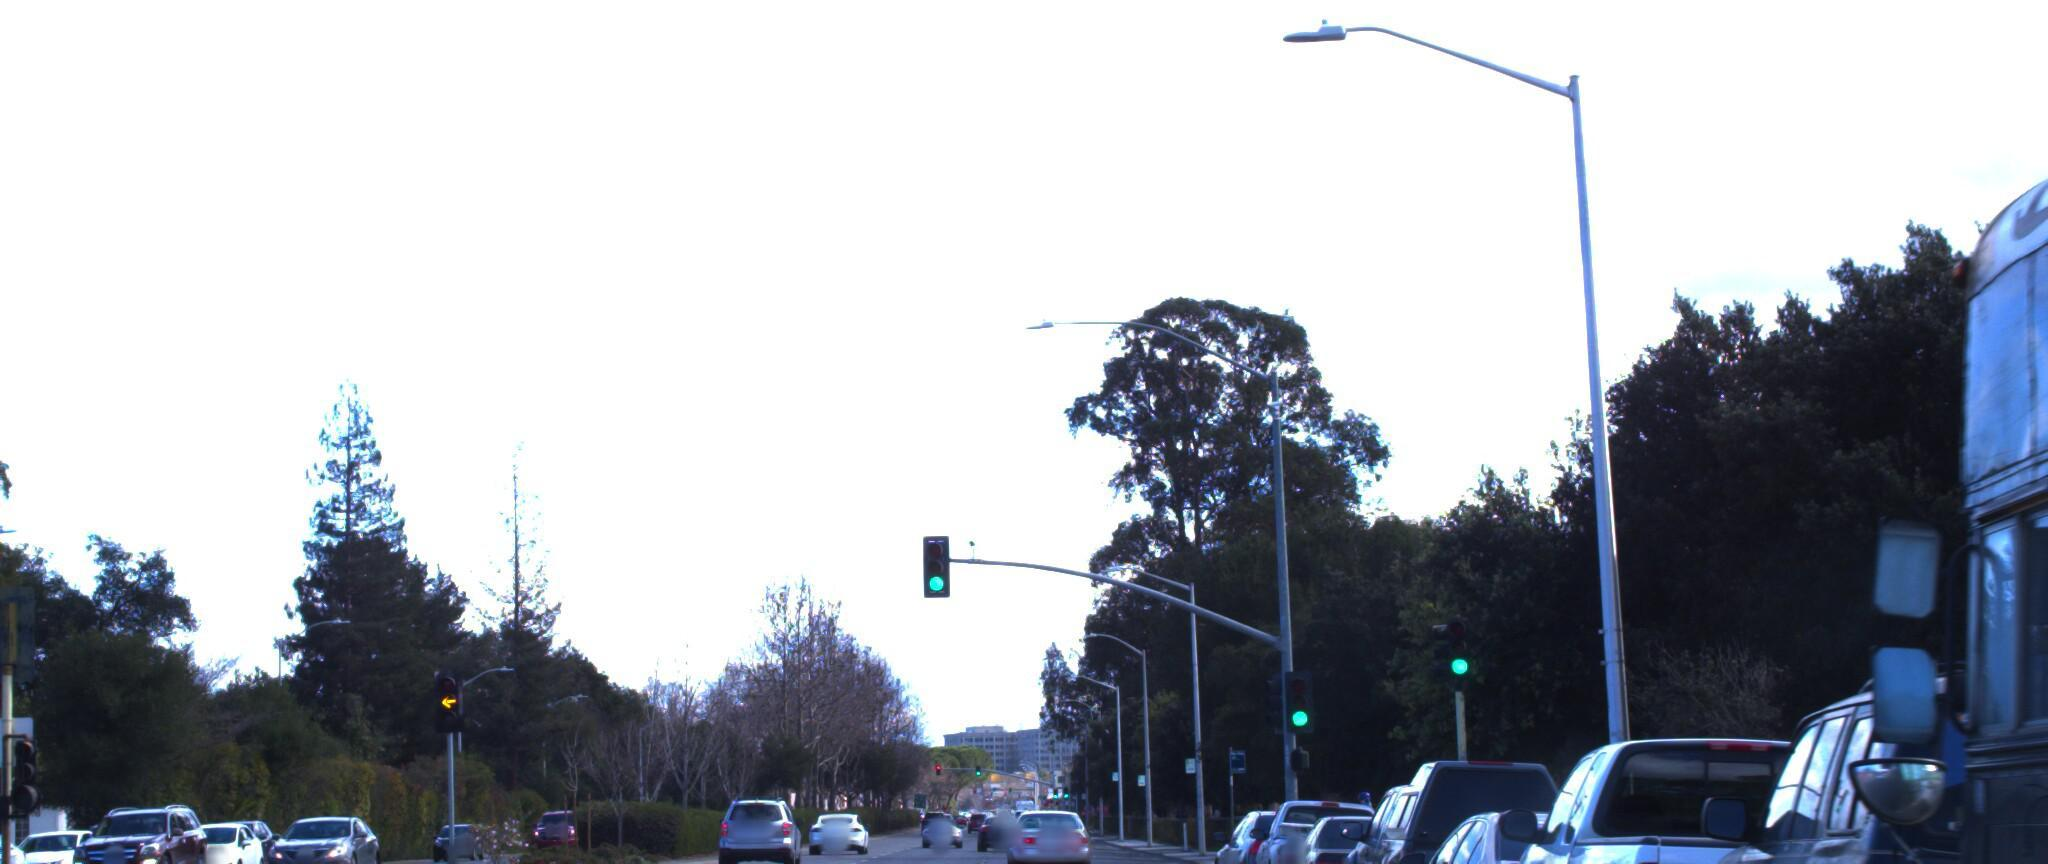car: (1465, 700, 2040, 864), (1654, 647, 2048, 864), (1334, 745, 1604, 864), (1384, 794, 1746, 864), (1250, 790, 1416, 864), (1276, 804, 1463, 864), (72, 794, 222, 864), (265, 794, 396, 864), (704, 784, 795, 864), (158, 805, 277, 864), (0, 807, 118, 864), (990, 797, 1078, 864), (0, 817, 37, 864)
